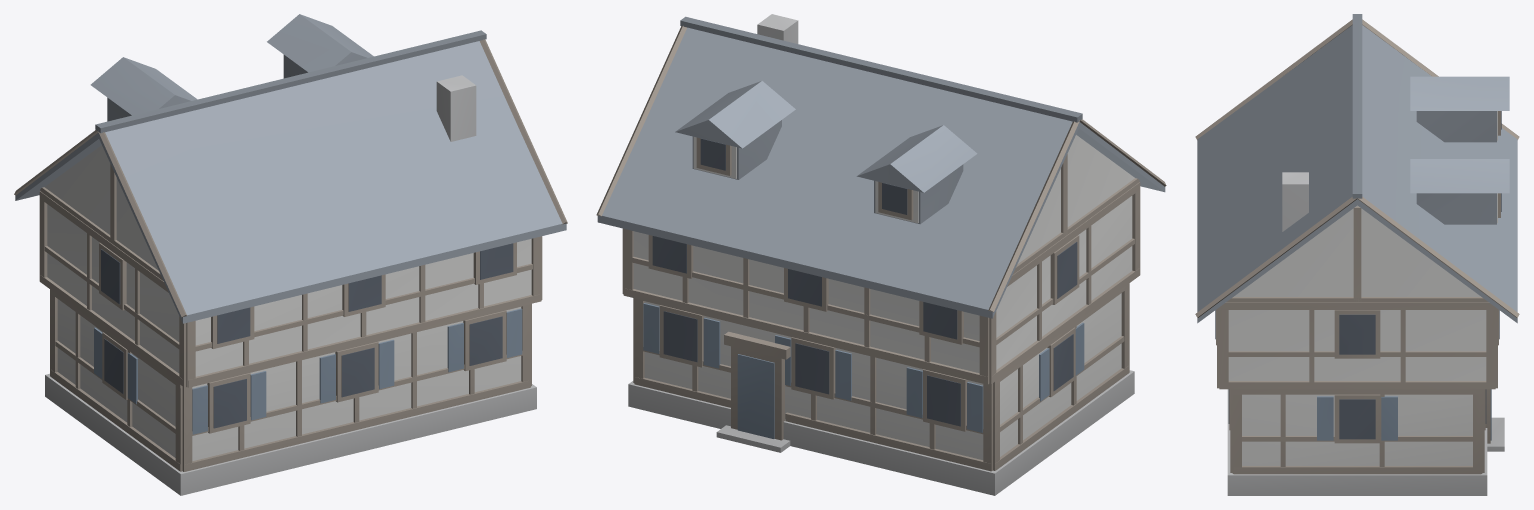
The model's file is hall_brine.gltf.
The picture shows the model from 3 angles, left to right: view 1: azimuth 30°, elevation 25°; view 2: azimuth 150°, elevation 25°; view 3: azimuth 270°, elevation 25°; orthographic projection. The views are drawn at different scales.
Visible parts, largest first — view 1: Body; view 2: Body; view 3: Body.
Boxes of the visible parts, x1,y1,x2,y2 form: Body: (14,14,567,495); Body: (596,14,1166,495); Body: (1195,14,1519,495).
Size of the model in its own units: 11.17 by 8.94 by 8.51.
